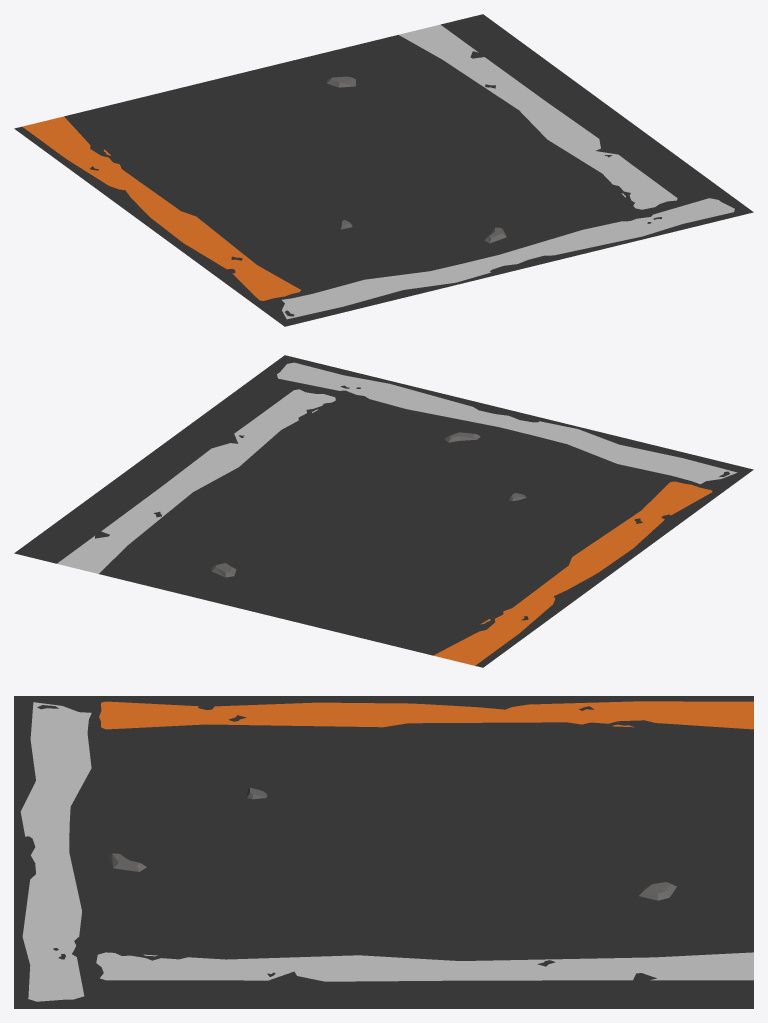
The model's file is Asphalt_11.FBX.
3 views of the same model, one above another, from view 1: azimuth 30°, elevation 25°; view 2: azimuth 150°, elevation 25°; view 3: azimuth 270°, elevation 25° (orthographic). The views are drawn at different scales.
Visible parts, largest first — view 1: Asphalt_11; view 2: Asphalt_11; view 3: Asphalt_11.
Boxes of the visible parts, x1=… form: Asphalt_11: x1=14, y1=14, x2=753, y2=326; Asphalt_11: x1=14, y1=355, x2=753, y2=667; Asphalt_11: x1=14, y1=696, x2=753, y2=1008.
Size of the model in its own units: 5 by 0.03 by 5.
